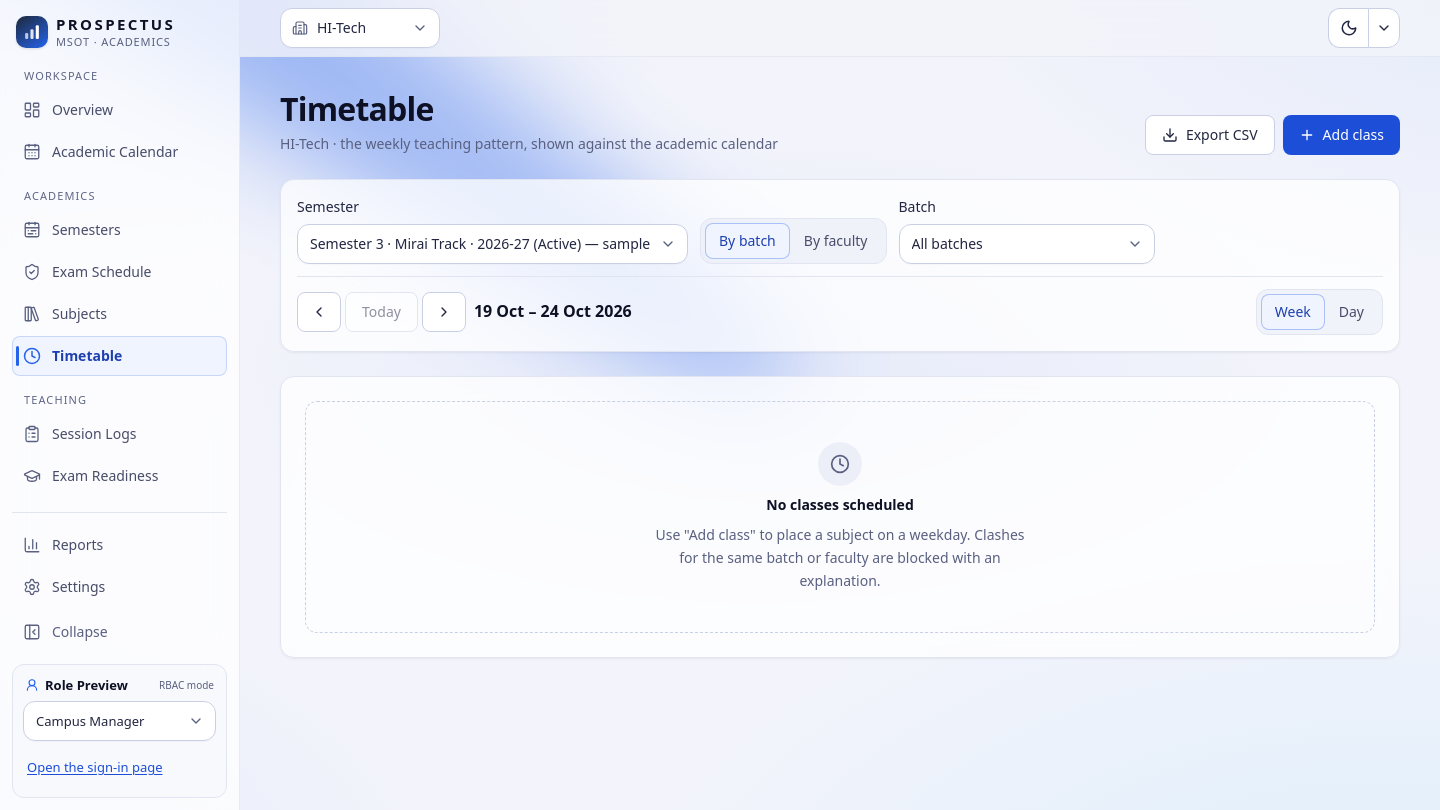
Timetable page › shows readable clash explanations from the API and keeps the dialog open
This screenshot has width=1440, height=810.
Expected: the text "No classes scheduled" is shown, [766,494,914,516]
Click the button "Add class": click(1341, 135) [1283,115,1400,155]
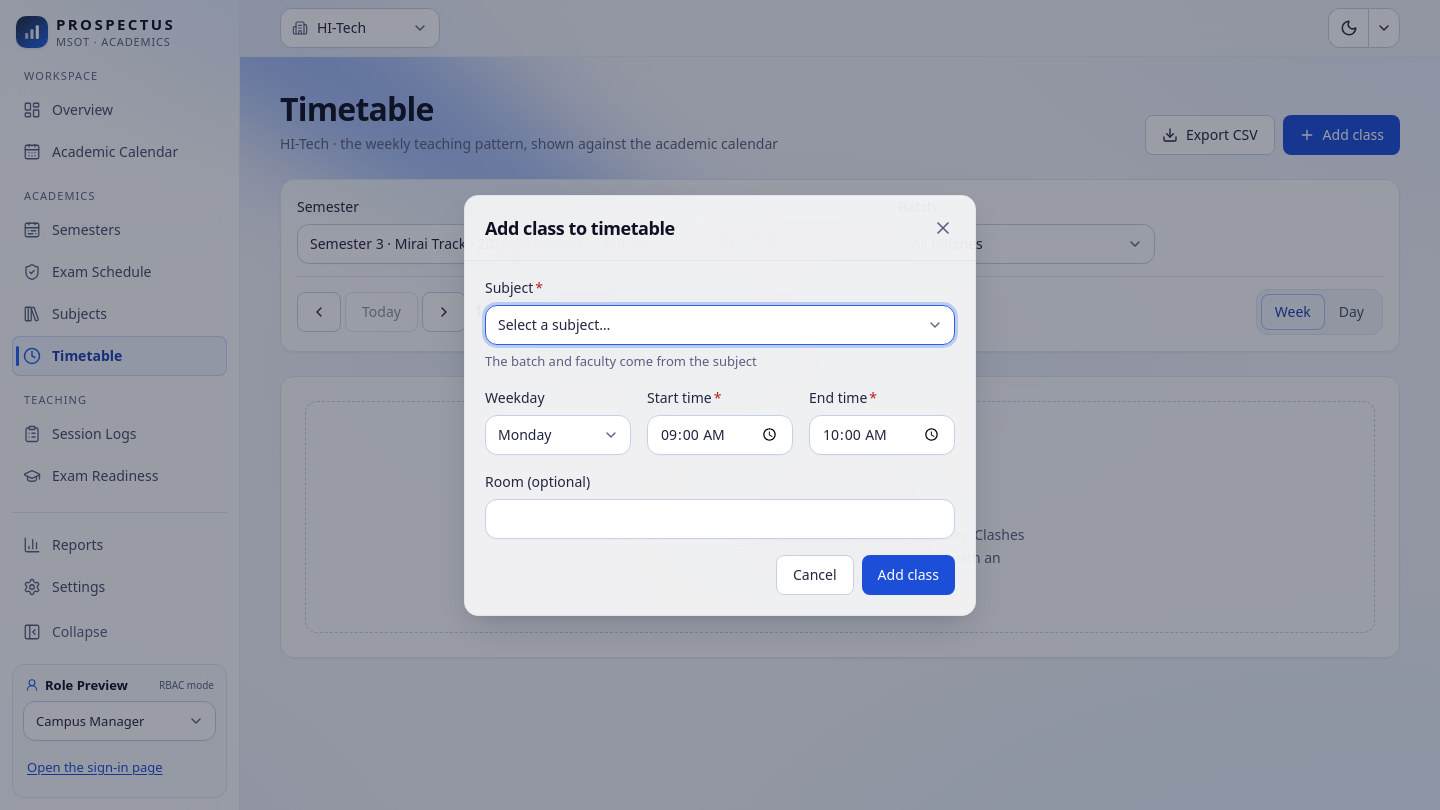
Select "S1 · Subject One — Batch A (Faculty One)" in the dropdown labelled "Subject": (720, 324) [485,304,955,344]
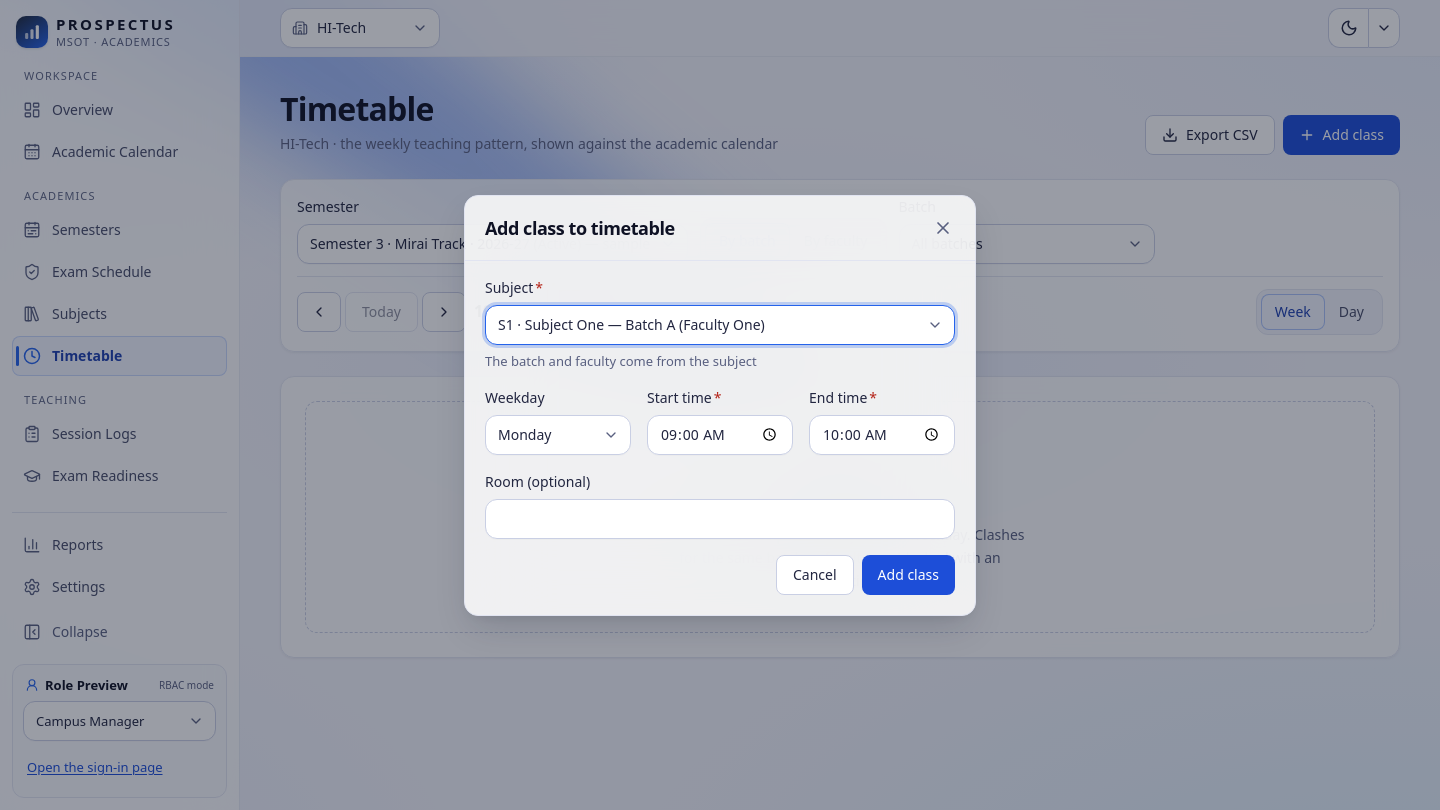
Click the button "Add class": click(908, 574) [862,554,955,594]
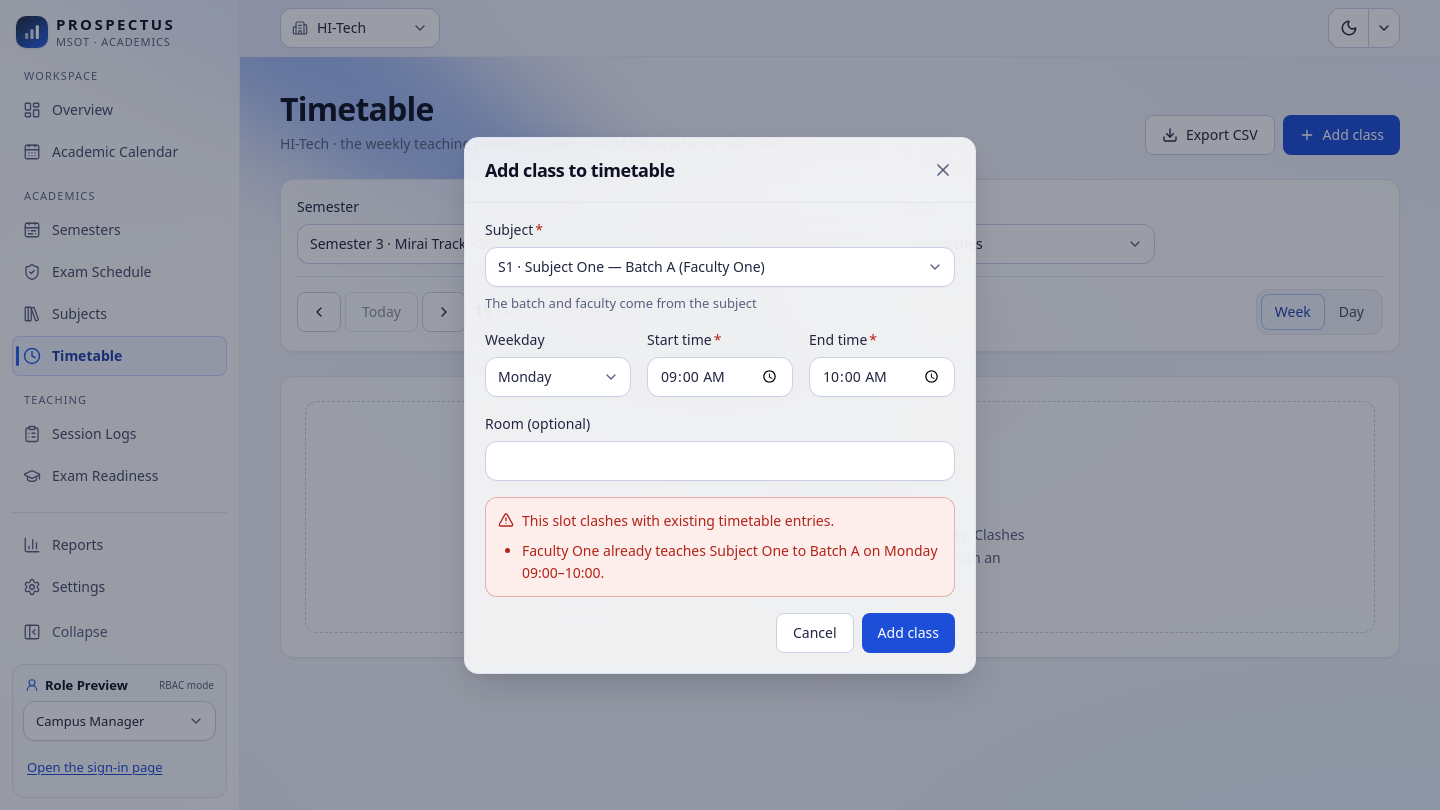
Expected: the dialog is shown, [464,136,976,674]
Expected: the list item "Faculty One already teaches Subject One to Batch A on Monday 09:00–10:00." is shown, [522,540,942,584]
